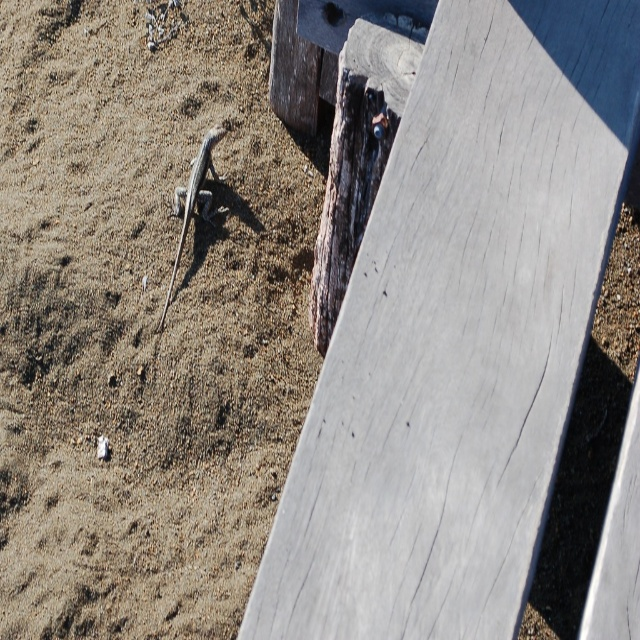Lizard: (157, 117, 232, 332)
